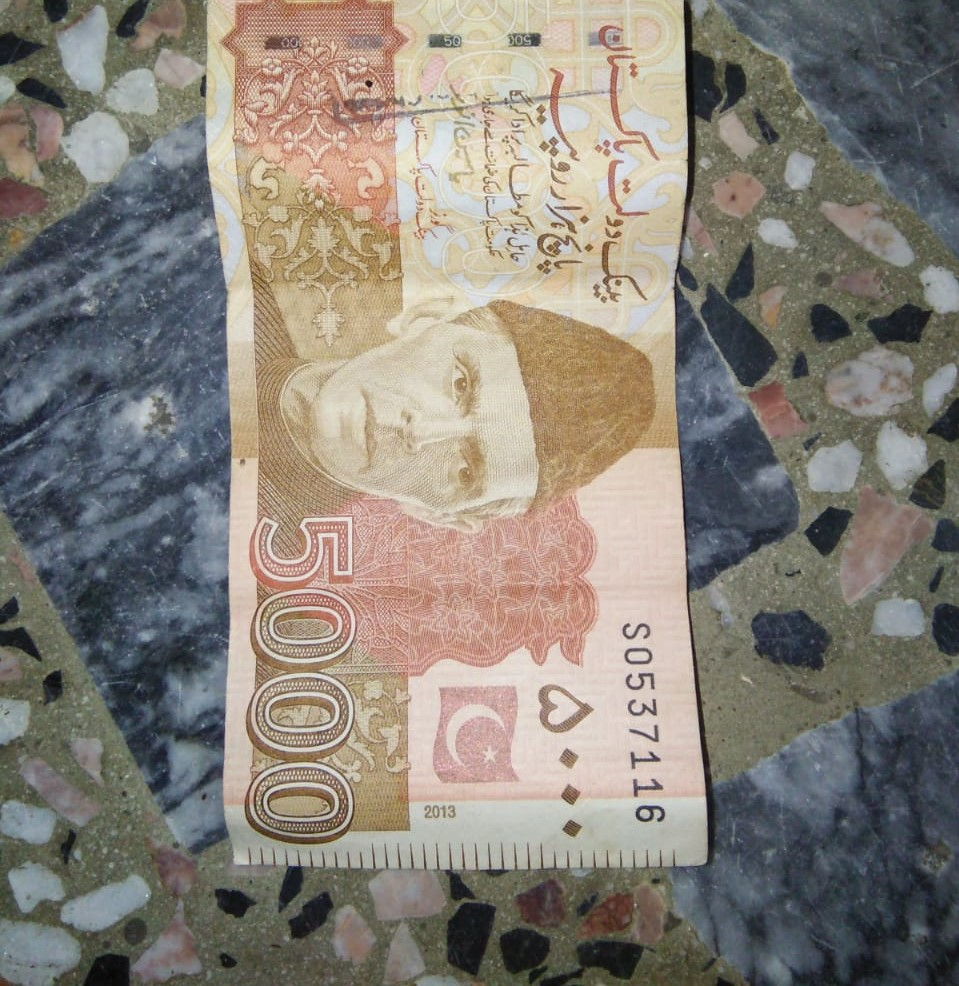5000 rupee: (209, 19, 735, 944)
